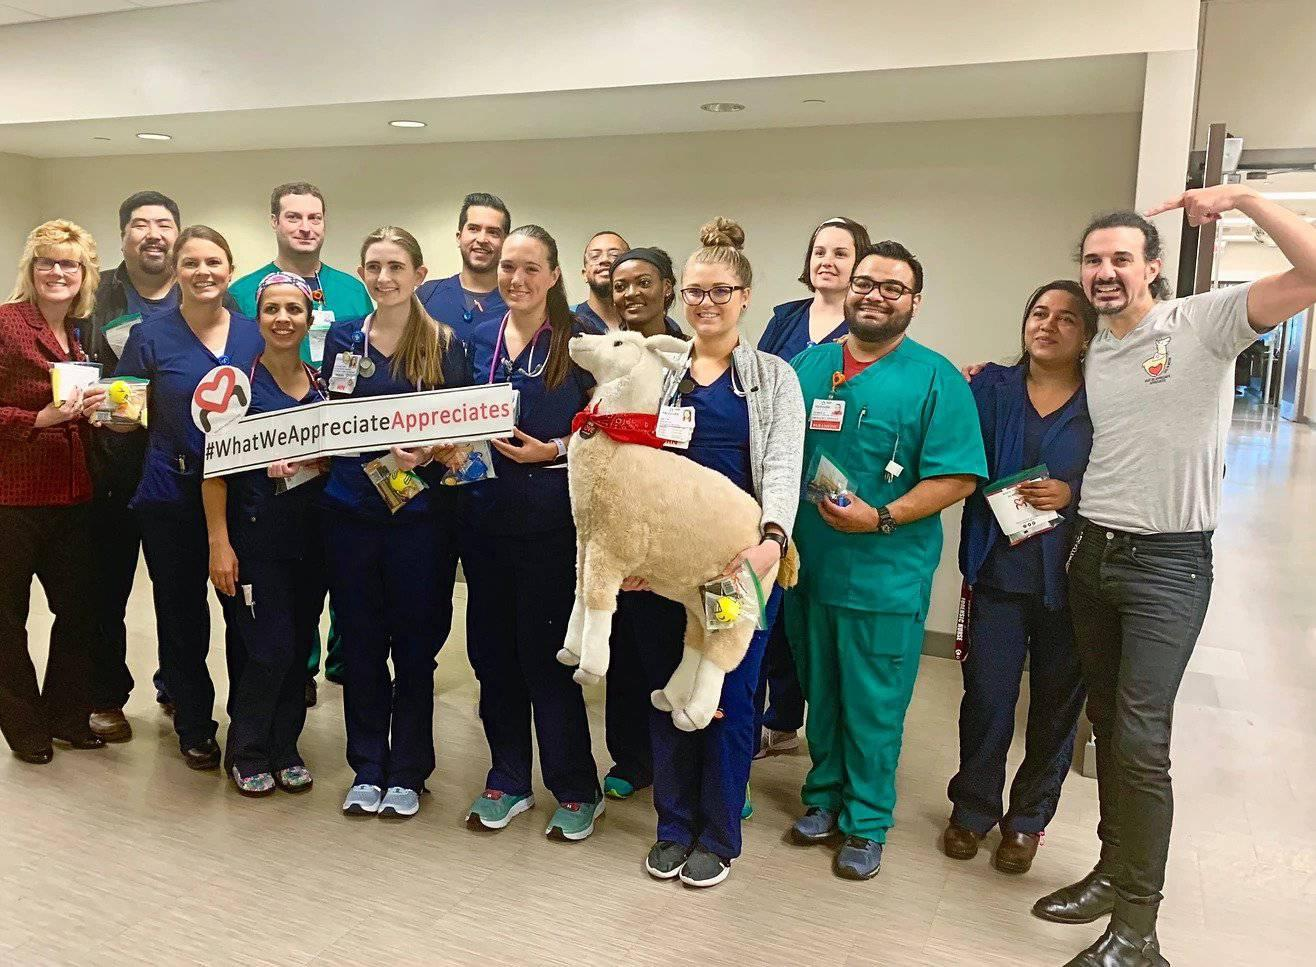jaw: (845, 302, 910, 334), (1082, 279, 1142, 307), (1022, 334, 1079, 359), (684, 311, 740, 332), (34, 278, 82, 302), (125, 246, 175, 267), (498, 288, 544, 308), (180, 281, 226, 300), (260, 326, 307, 343), (362, 286, 414, 302), (807, 268, 850, 286), (614, 302, 659, 318), (459, 245, 500, 262), (277, 237, 323, 251)
